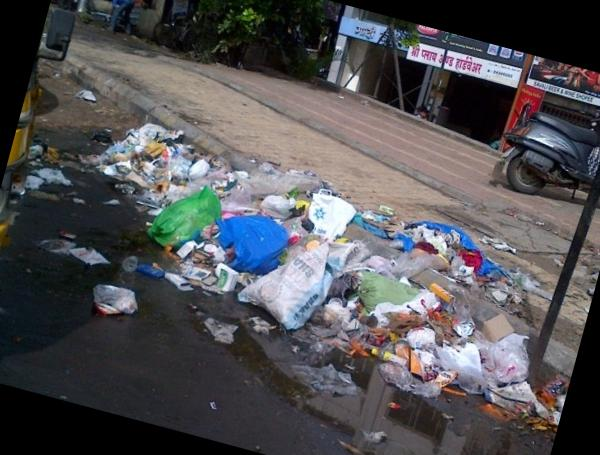road: (76, 42, 458, 218)
trash: (161, 184, 442, 356), (148, 185, 367, 330), (239, 243, 331, 329), (216, 215, 288, 274), (362, 283, 437, 314), (92, 284, 137, 314)
